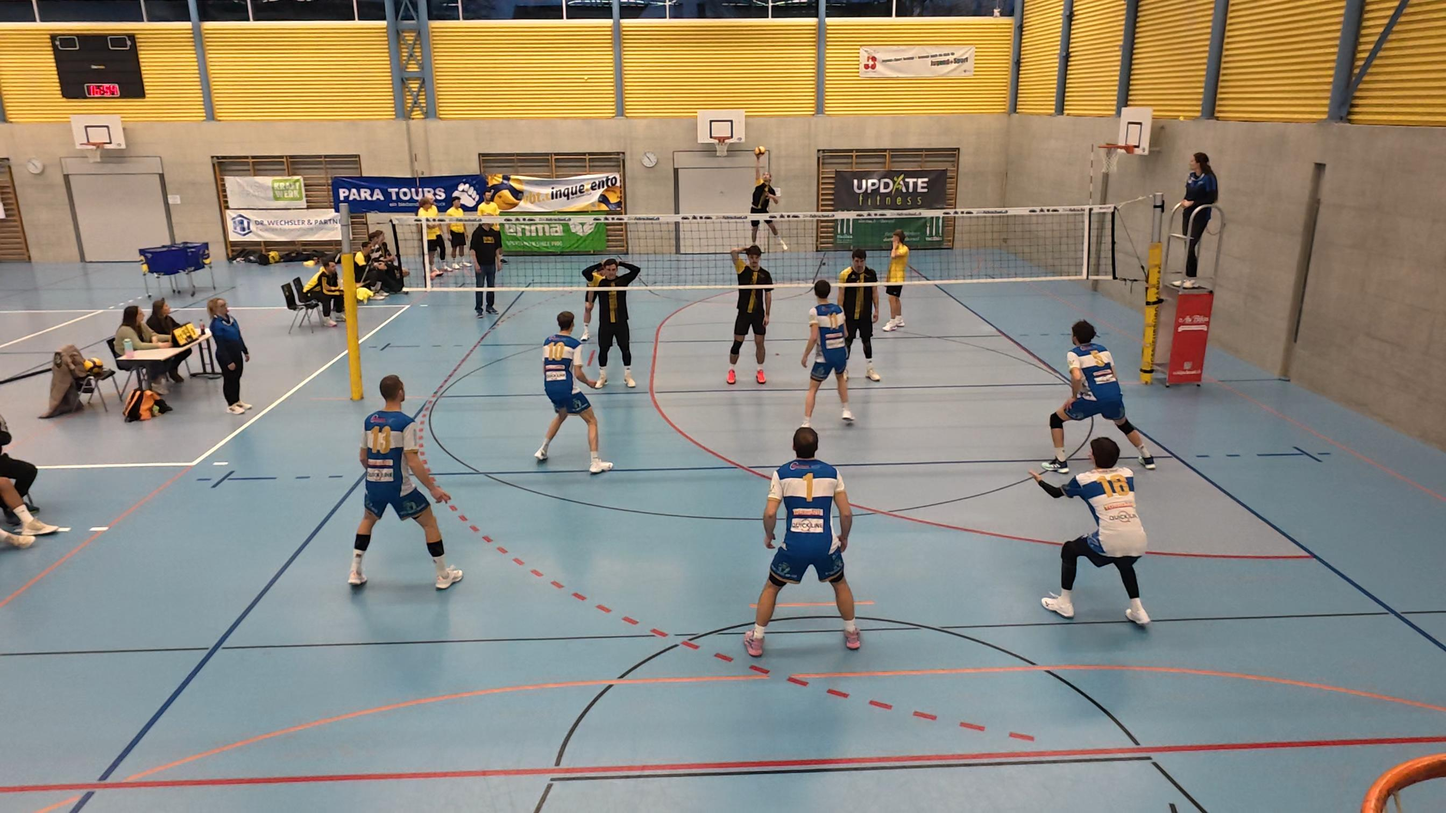battuta: (743, 146, 794, 256)
